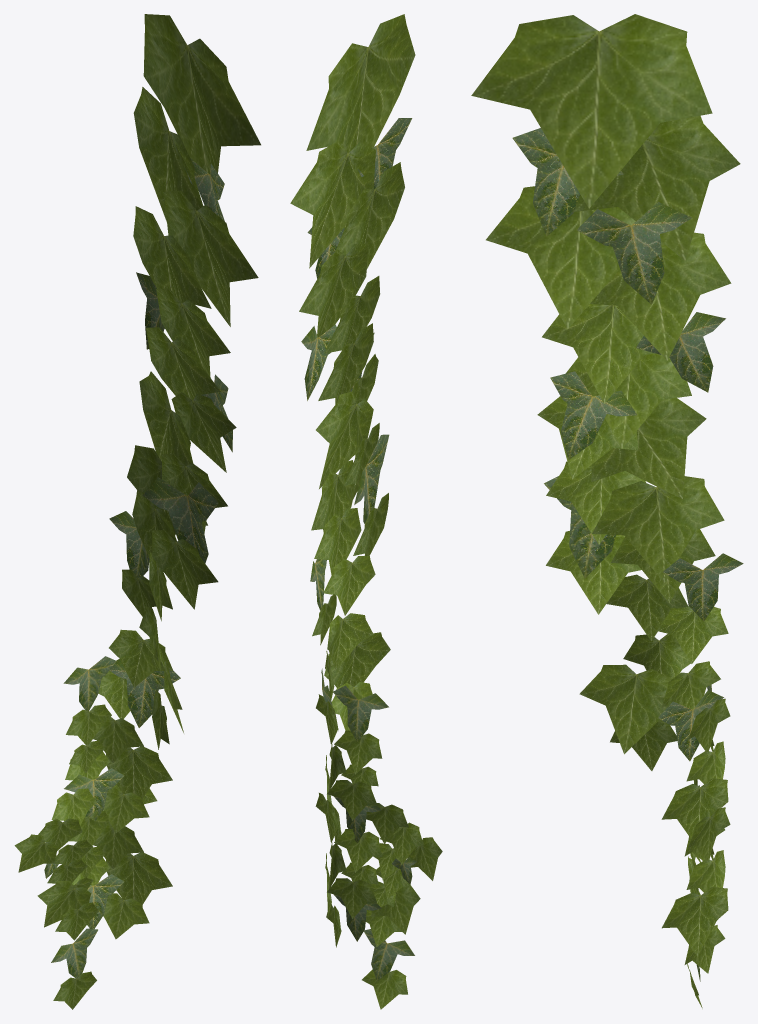
Rendered from Vines_C.fbx.
3 views of the same model, side by side, from view 1: azimuth 30°, elevation 25°; view 2: azimuth 150°, elevation 25°; view 3: azimuth 270°, elevation 25° (orthographic). The views are drawn at different scales.
Visible parts, largest first — view 1: VInes_C; view 2: VInes_C; view 3: VInes_C.
Part boxes in pixels (x1,y1,x2,y2): VInes_C: [14, 14, 260, 1009]; VInes_C: [290, 14, 442, 1009]; VInes_C: [471, 14, 743, 1008].
Bounding box in the file's own units: 38.73 × 237 × 56.93.
